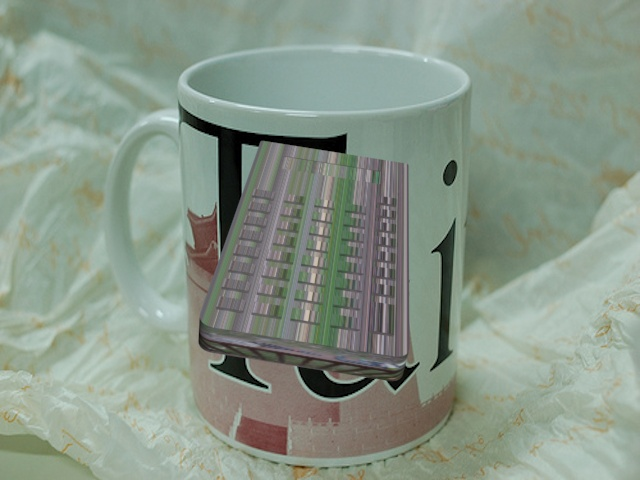calculator: (193, 129, 416, 385)
